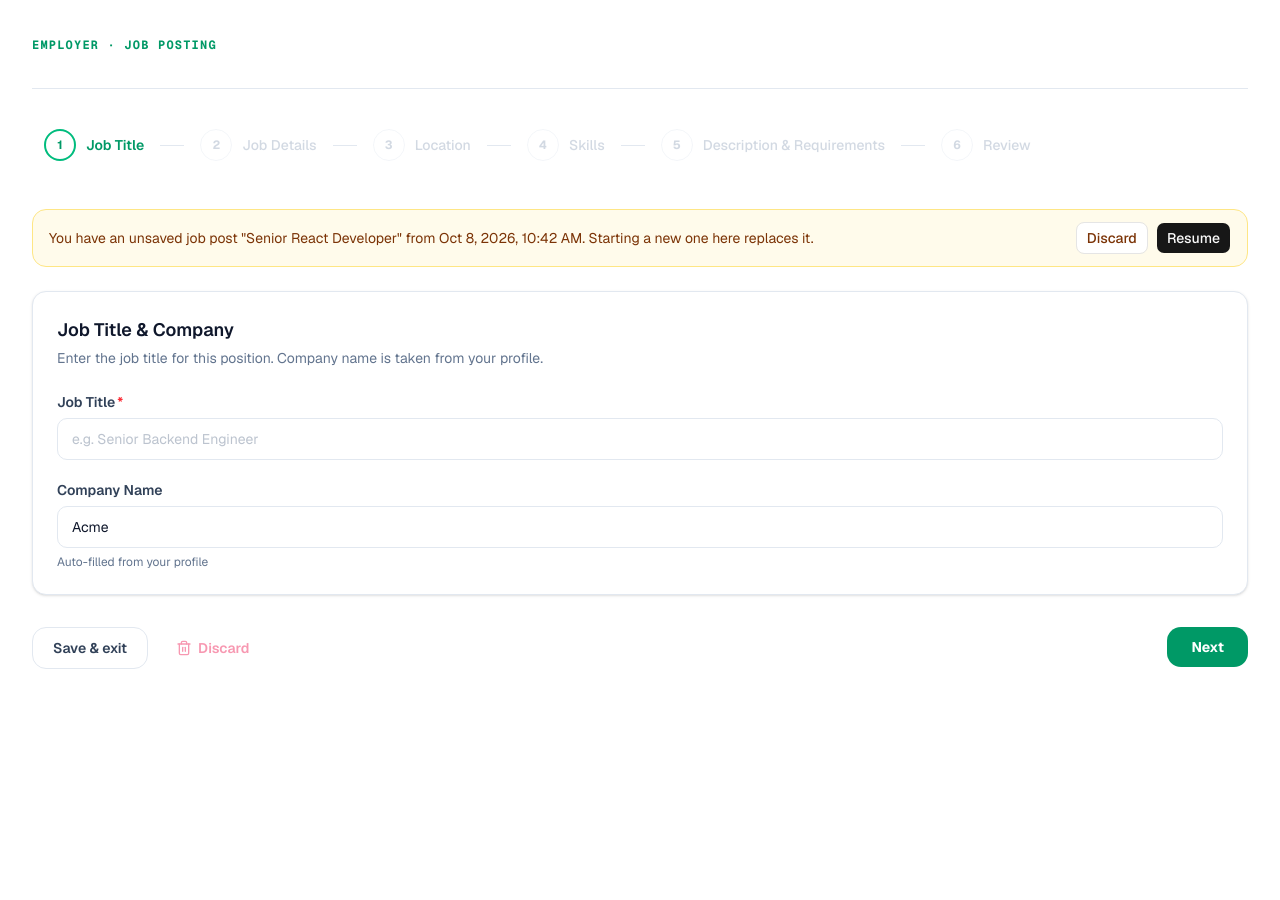
Test case: CreateJobView local backup › removes the backup from the banner's Discard only after confirming
The image size is (1280, 900).
Click the button "Discard" in the row of ". Starting a new one here replaces it.": click(1112, 238) [1076,222,1148,254]
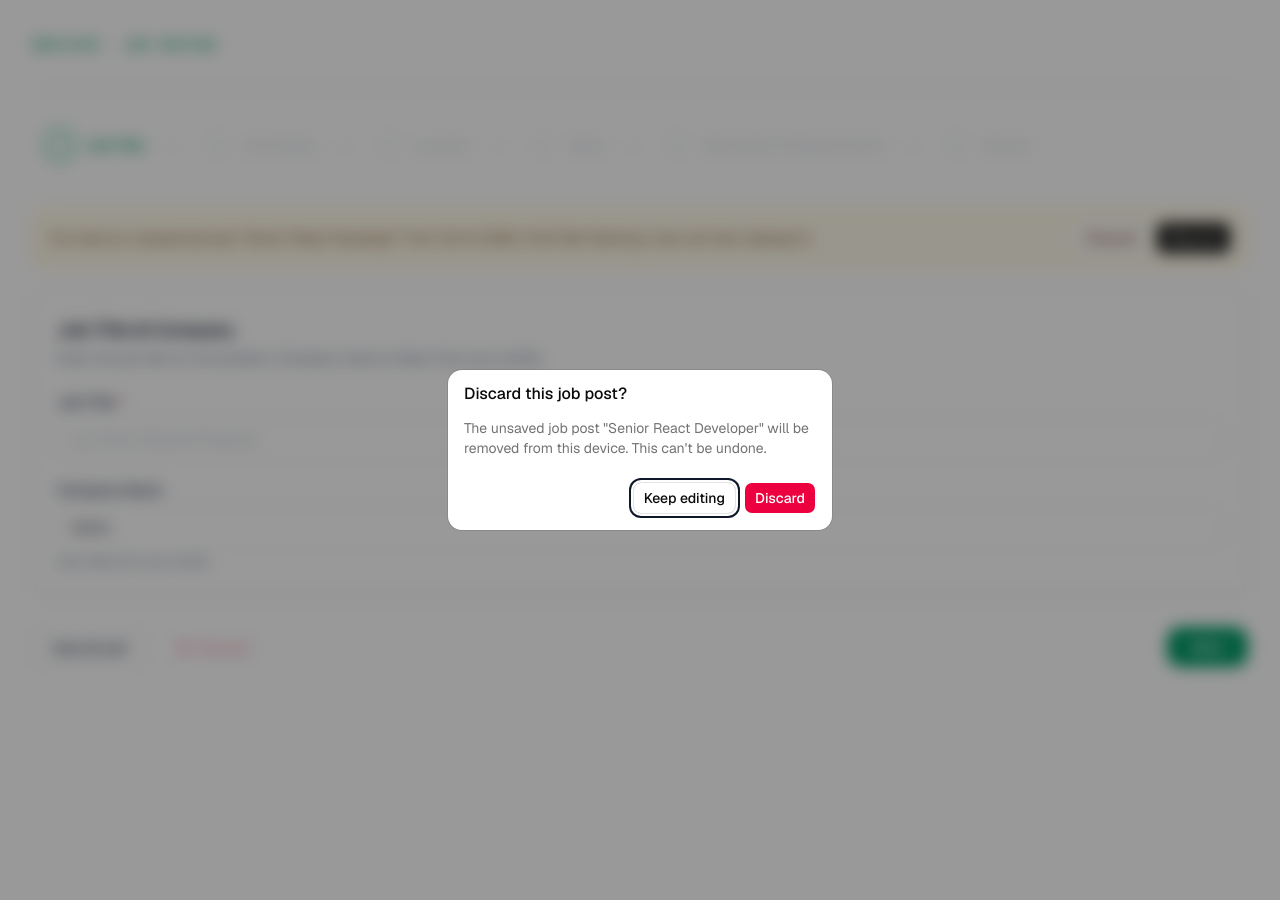
Result: the text "\"Senior React Developer\" will be removed from this device" is shown at [464,419,809,457]
Click the button "Discard": click(780, 498) [744,482,816,514]
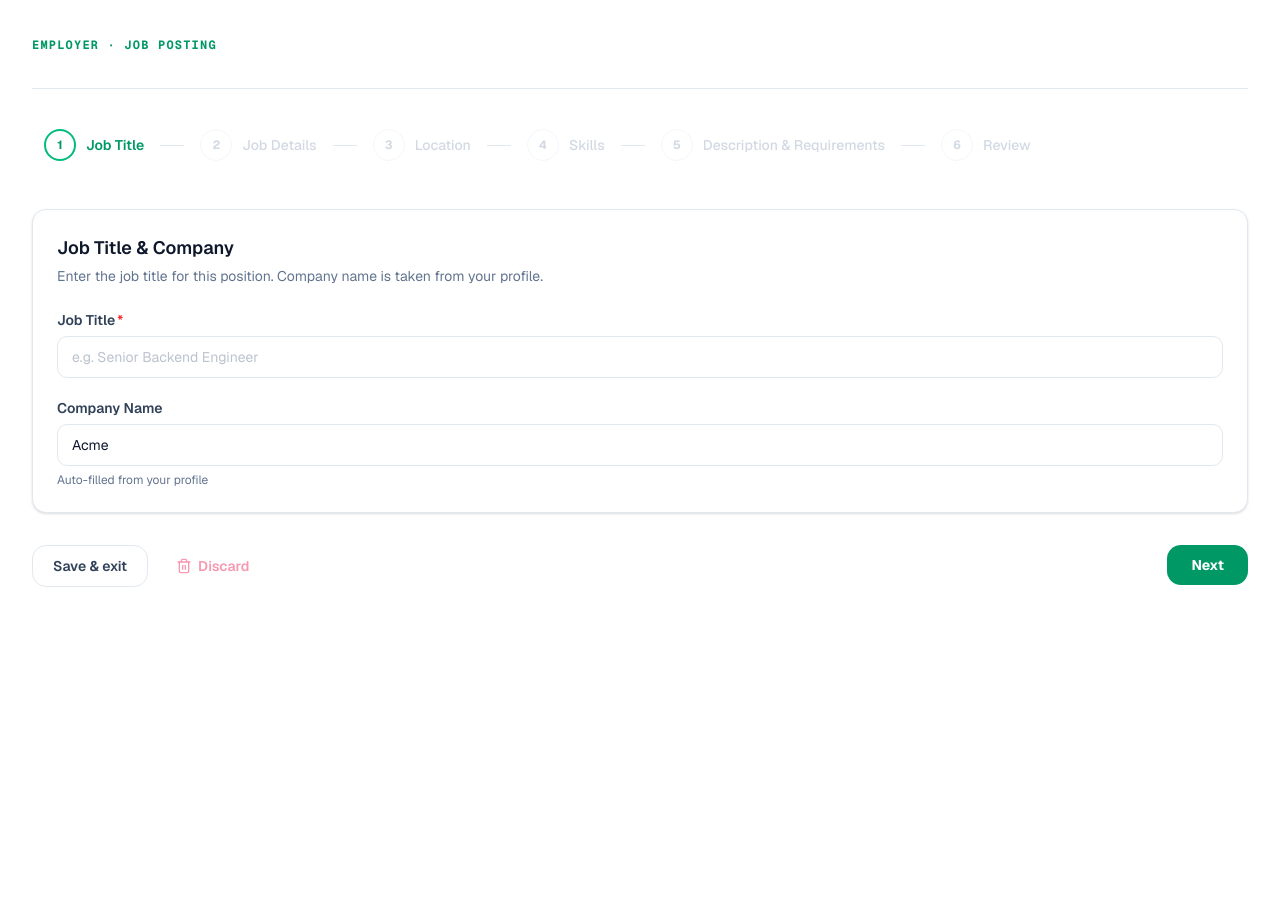
Result: the text "unsaved job post" is gone
